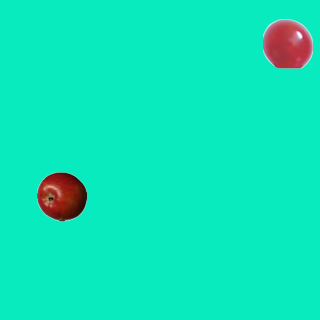Apple Braeburn: (36, 171, 86, 221)
Redcurrant: (262, 18, 312, 68)
